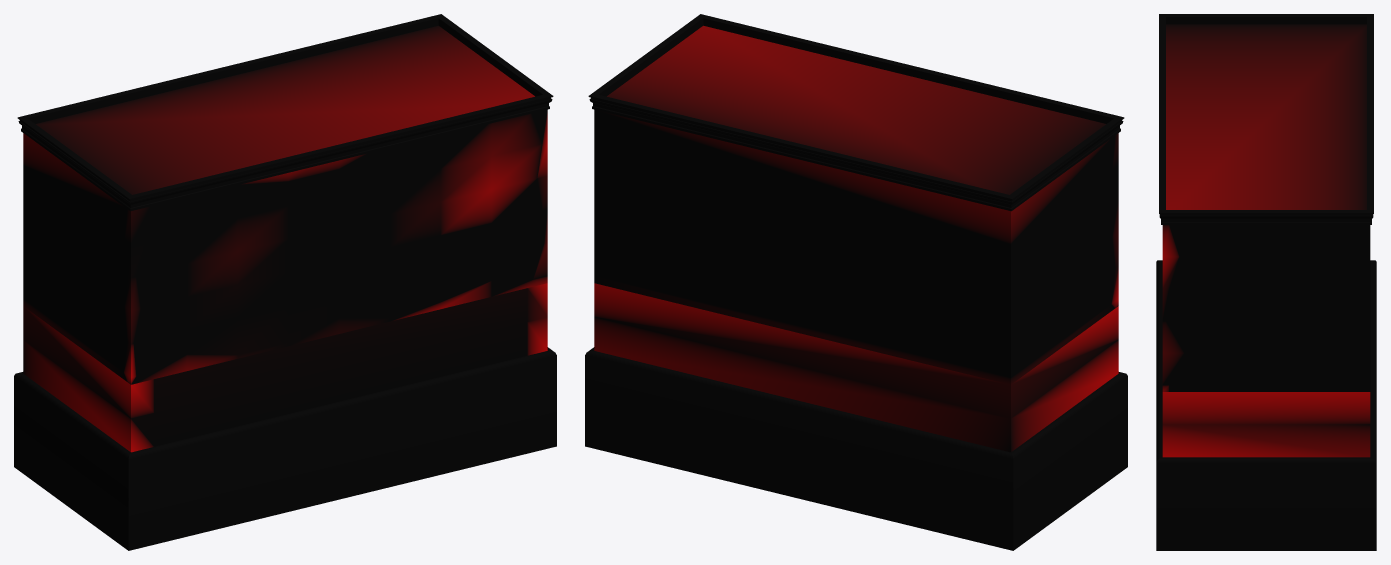
Rendered from House7.fbx.
3 renders of one model, left to right at view 1: azimuth 30°, elevation 25°; view 2: azimuth 150°, elevation 25°; view 3: azimuth 270°, elevation 25°, orthographic. The views are drawn at different scales.
Parts seen in each view (by area): view 1: House7; view 2: House7; view 3: House7.
Part boxes in pixels (x1,y1,x2,y2): House7: [14, 14, 556, 550]; House7: [585, 14, 1127, 550]; House7: [1156, 14, 1376, 550].
Size of the model in its own units: 1490 by 1165 by 690.
